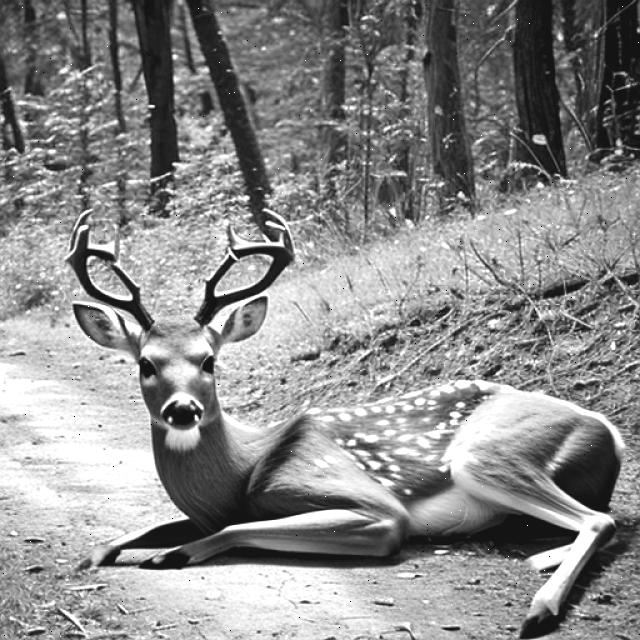deer: (57, 223, 613, 578)
